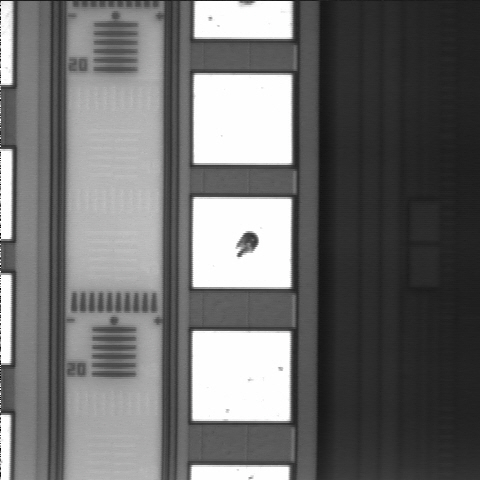pad: (194, 75, 292, 165), (193, 197, 291, 287), (192, 331, 290, 421)
